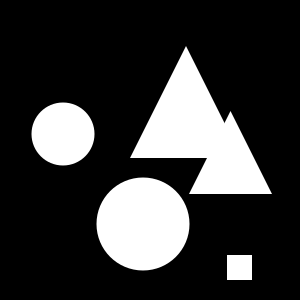circle: (227, 255, 252, 280)
rectangle: (96, 178, 190, 270), (32, 102, 94, 166)
triangle: (130, 46, 242, 158), (189, 111, 272, 194)
